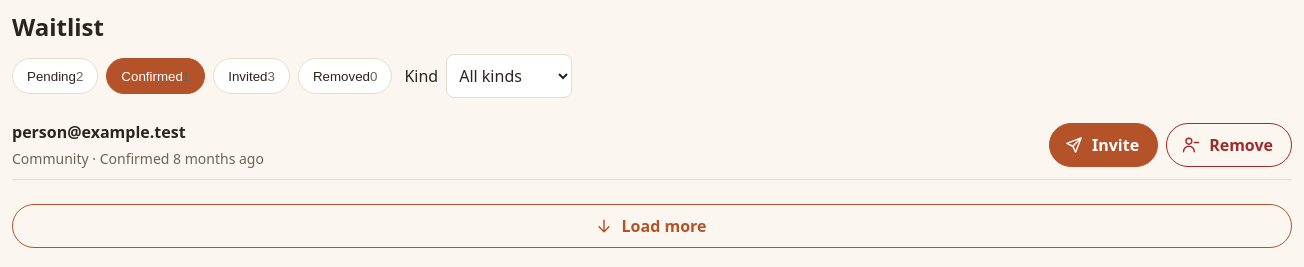
Scenario: WaitlistScreen › loads the next page with the cursor
What coordinates should you click on to do the following:
click the button "Load more"
I would click on:
 (652, 226)
Its box is [12, 204, 1292, 248].
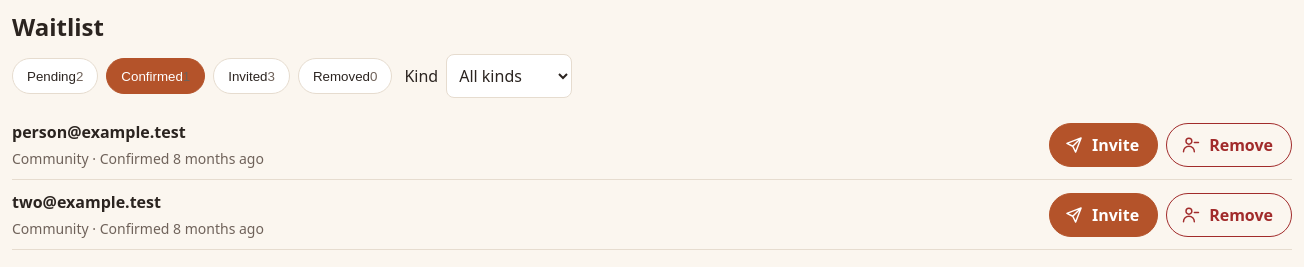
Now the text "two@example.test" is shown, box [12, 191, 161, 213]
